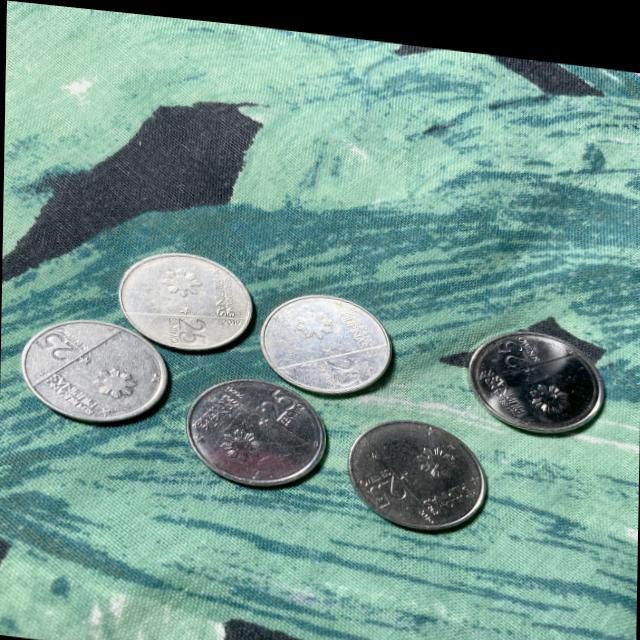25Cent_New_Front: (256, 378, 296, 415), (364, 461, 404, 497), (36, 328, 78, 361), (326, 347, 364, 382), (494, 326, 534, 358), (175, 312, 208, 343)
